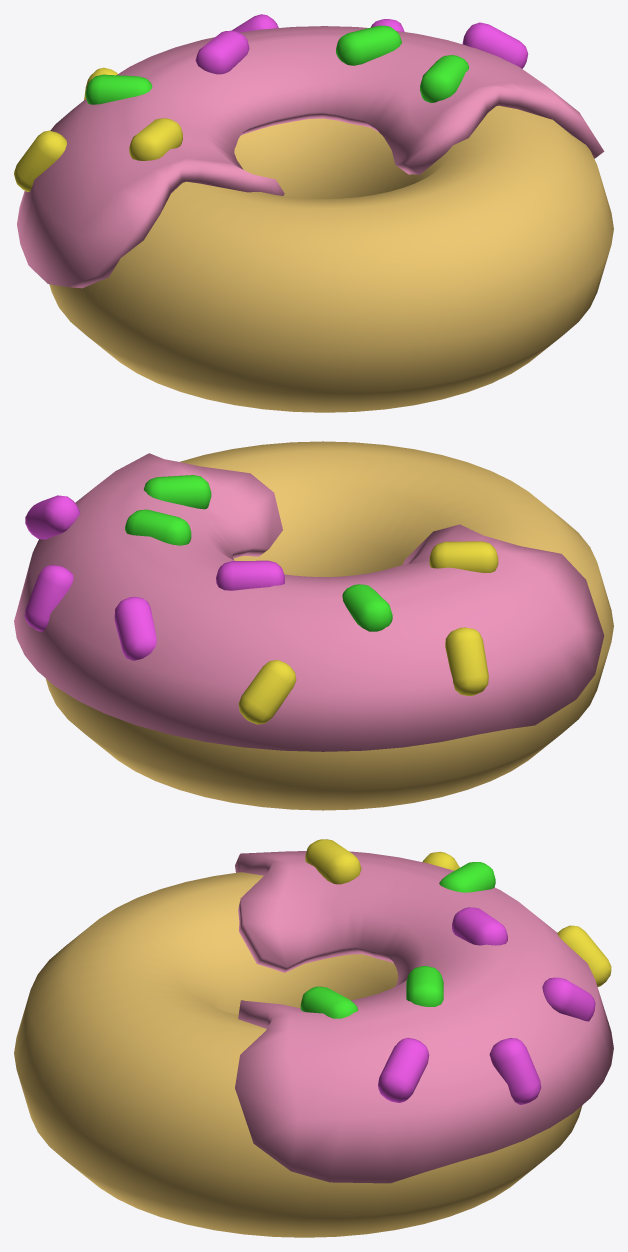
The model's file is Donut.fbx.
The picture shows the model from 3 angles, top to bottom: view 1: azimuth 30°, elevation 25°; view 2: azimuth 150°, elevation 25°; view 3: azimuth 270°, elevation 25°; orthographic projection.
Parts seen in each view (by area): view 1: Donut; view 2: Donut; view 3: Donut.
Part boxes in pixels (box(x1,y1,x2,y2)): Donut: box(14, 14, 613, 412); Donut: box(14, 441, 613, 810); Donut: box(14, 839, 613, 1237).
Bounding box in the file's own units: 171 × 70.31 × 168.
